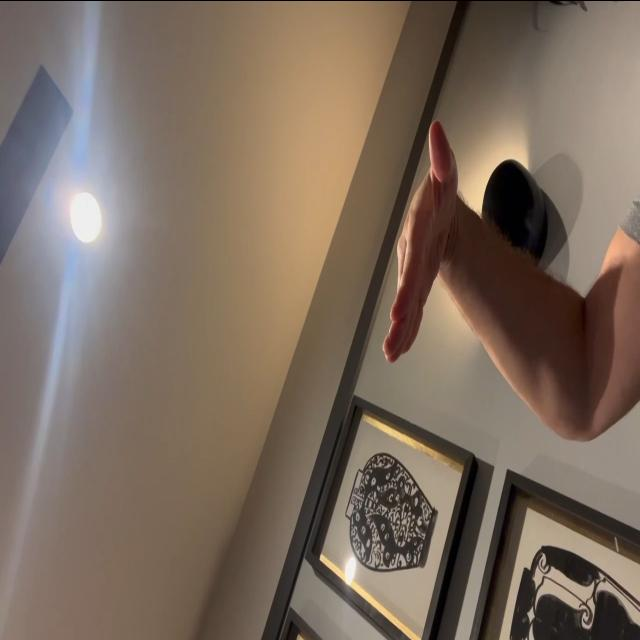Paper: (382, 118, 462, 366)
